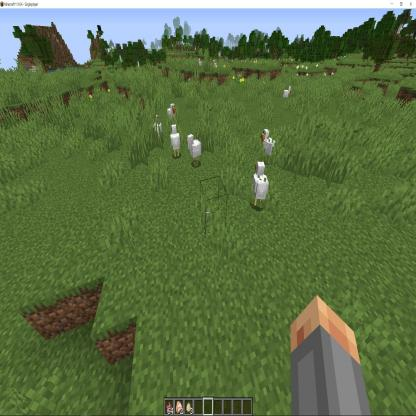minecraft-pigs: (252, 161, 270, 212), (260, 127, 277, 164), (186, 132, 204, 166), (170, 125, 183, 159), (152, 114, 165, 146), (281, 84, 293, 102), (166, 102, 176, 121), (197, 56, 204, 72), (212, 60, 219, 73)
